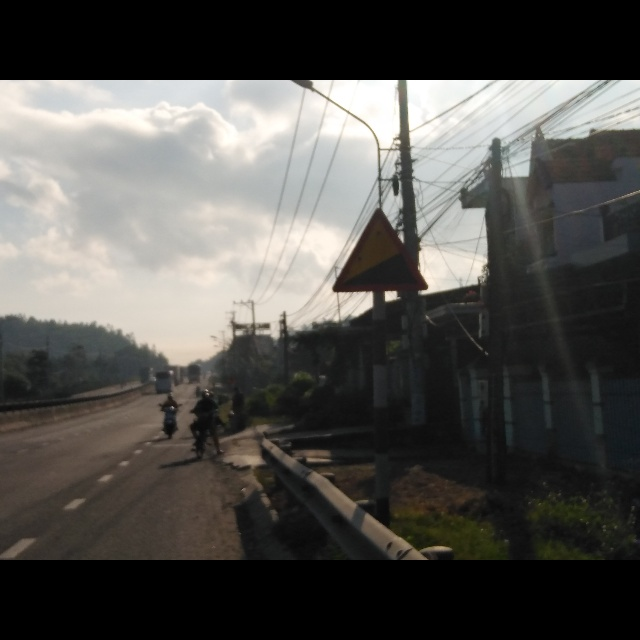Dốc lên nguy hiểm: (331, 204, 430, 294)
